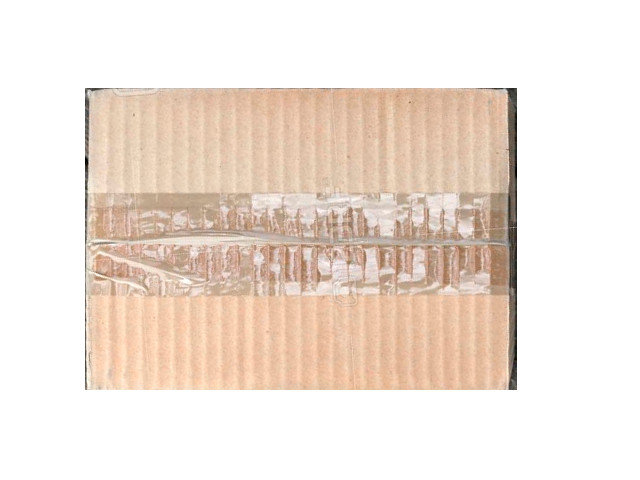cardboard: (87, 88, 512, 385)
